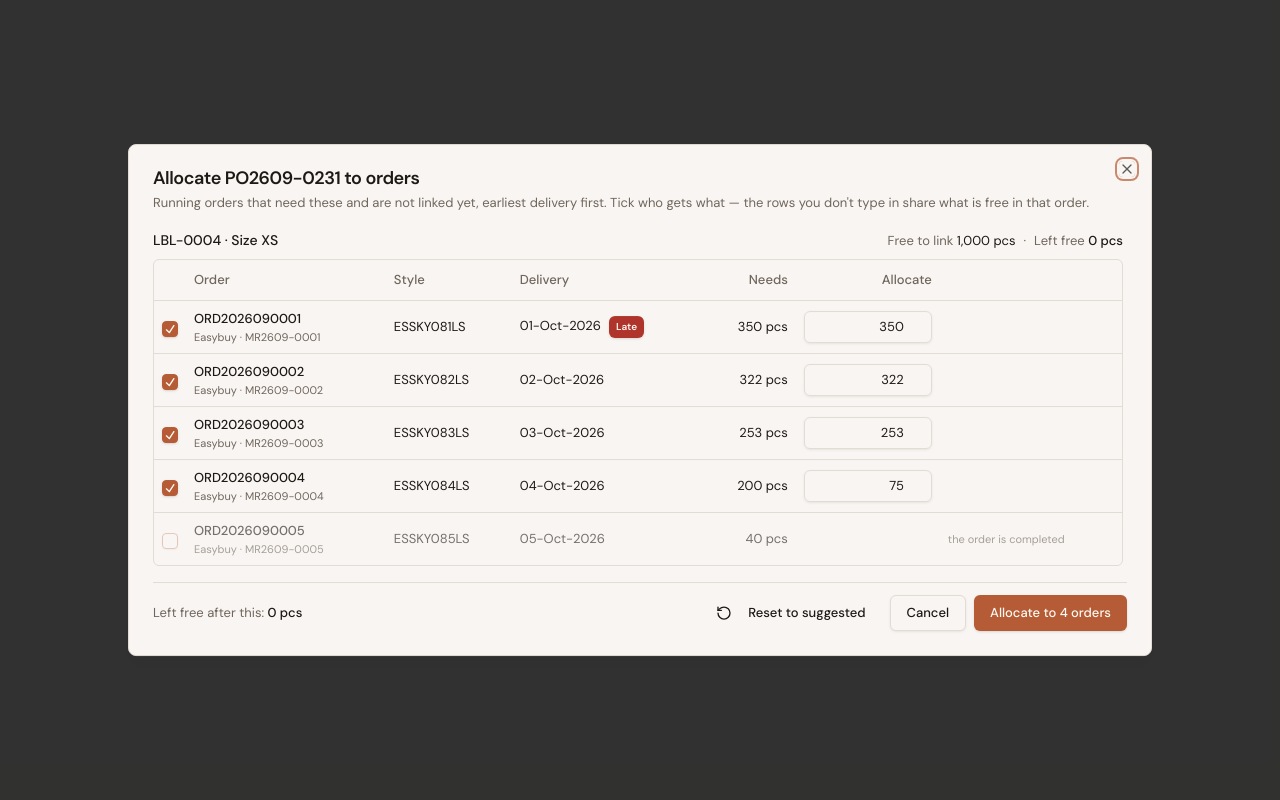
Test: AllocateToOrdersDialog › a quantity above the free line disables Save
Expected: the heading "Allocate PO2609-0231 to orders" is shown, [153,166,420,190]
Replace the text in the number field named "Quantity for ORD2026090004" with "200" at (868, 486), box [804,470,932,502]
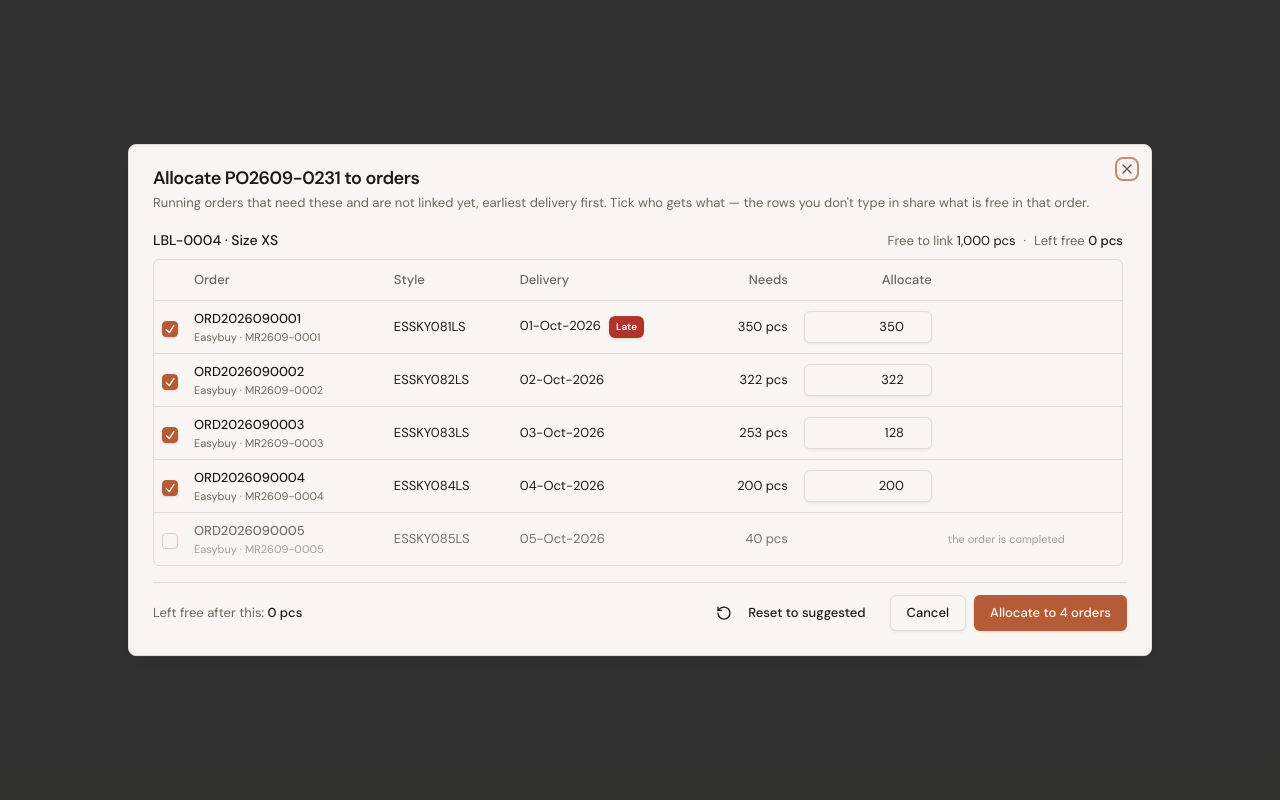
Replace the text in the number field named "Quantity for ORD2026090003" with "253" at (868, 433), box [804,417,932,449]
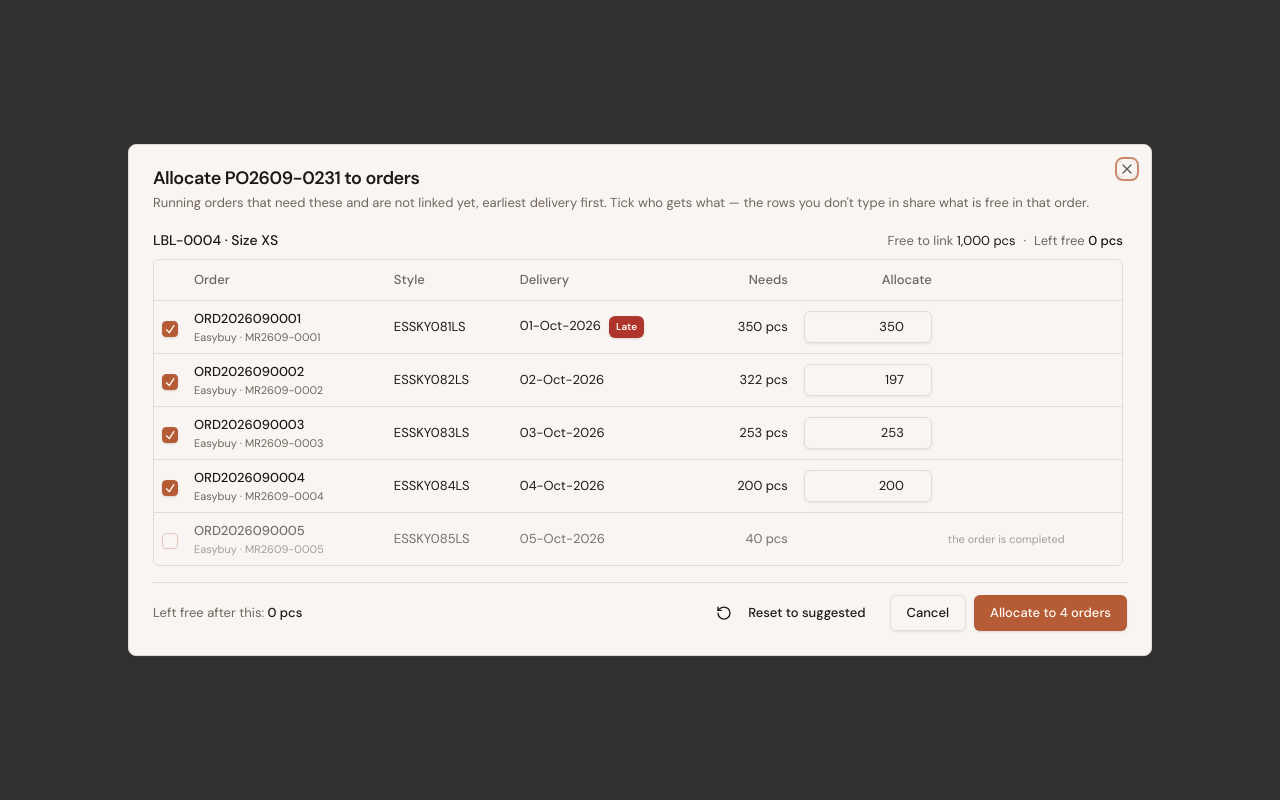
Replace the text in the number field named "Quantity for ORD2026090002" with "322" at (868, 380), box [804,364,932,396]
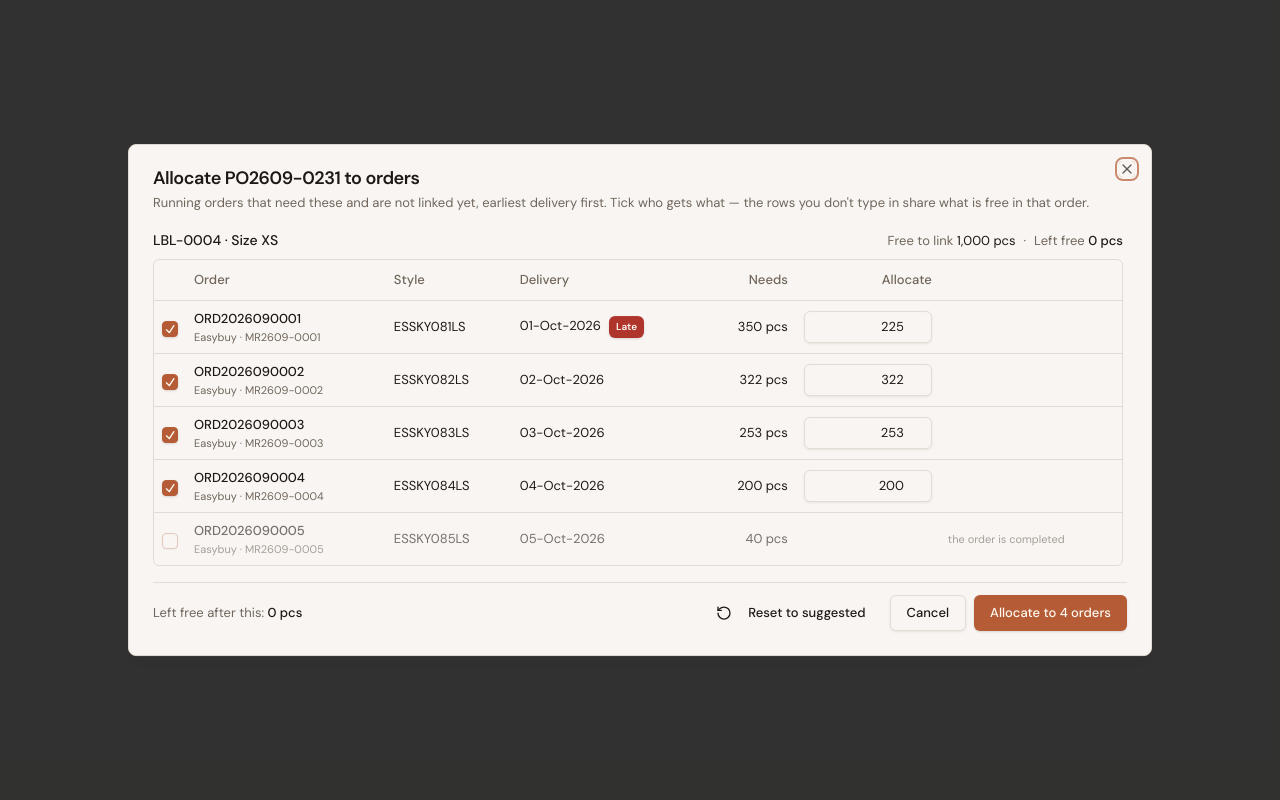
Replace the text in the number field named "Quantity for ORD2026090001" with "350" at (868, 327), box [804,311,932,343]
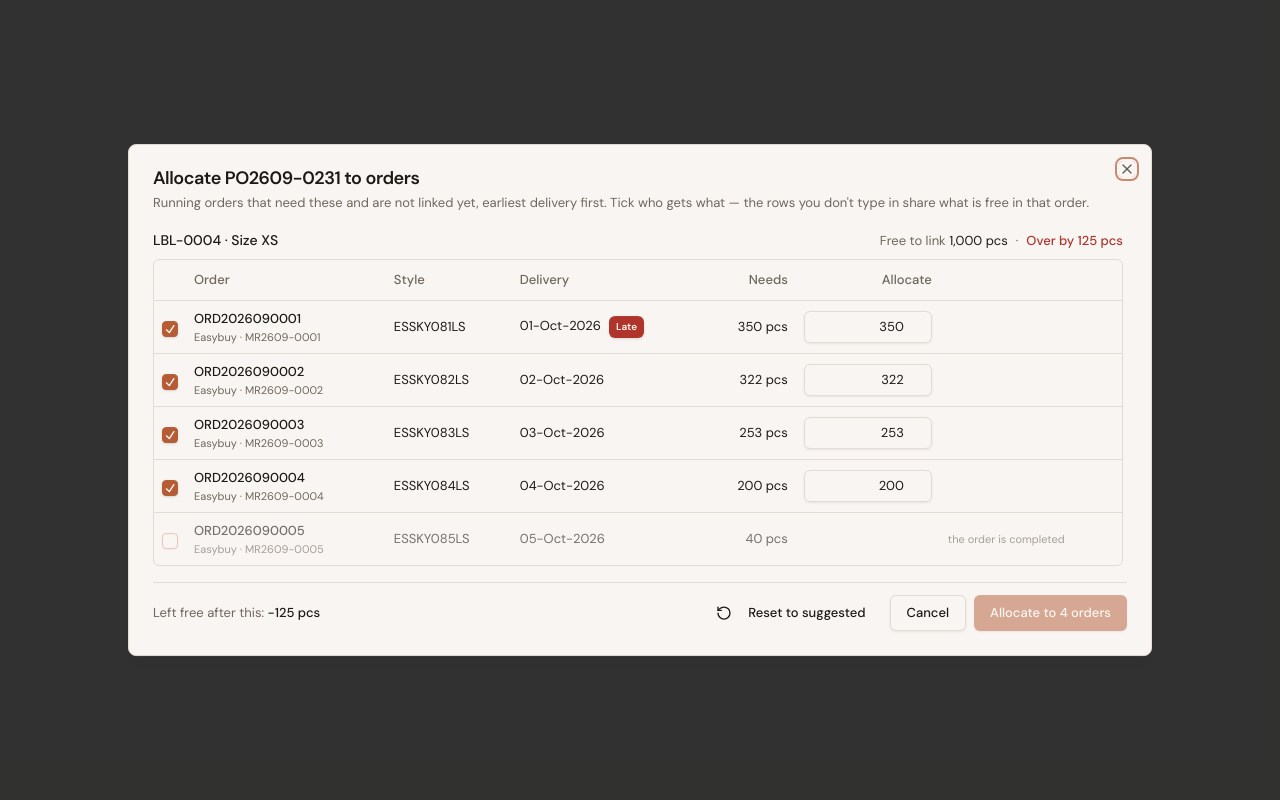
Expected: the text "Over by 125 pcs" is shown, [1026,232,1123,249]
Expected: the button "Allocate to 4 orders" is disabled, [974,595,1127,631]
